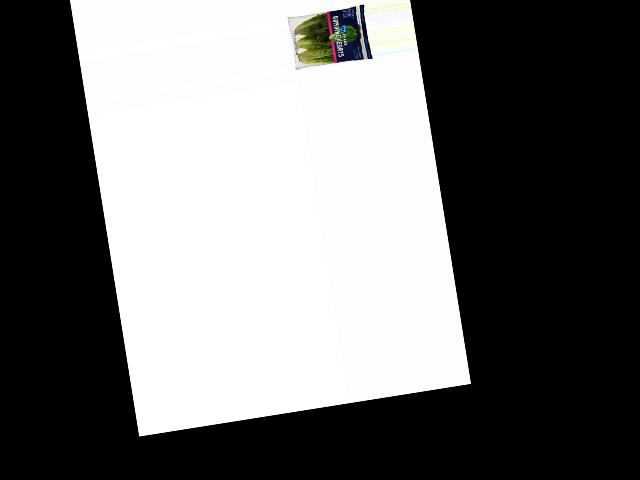lettuce: (289, 2, 371, 72)
